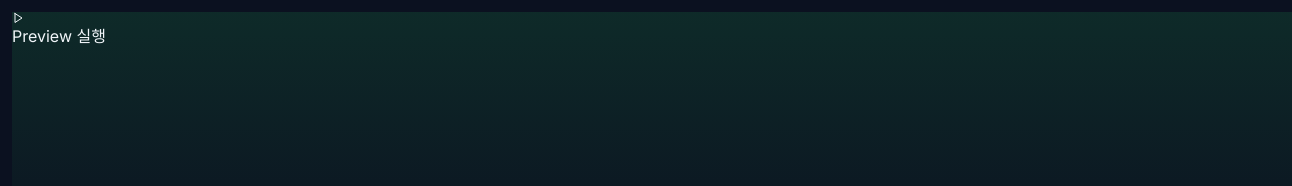
Test: PreviewRunCard › (#4) no_scaffold 응답 → 안내만 표시(가짜 진행 X)
Click the button with test id "mission-preview-run-cta-mission_w". click: coordinates (59, 30)
box: [12,12,106,48]
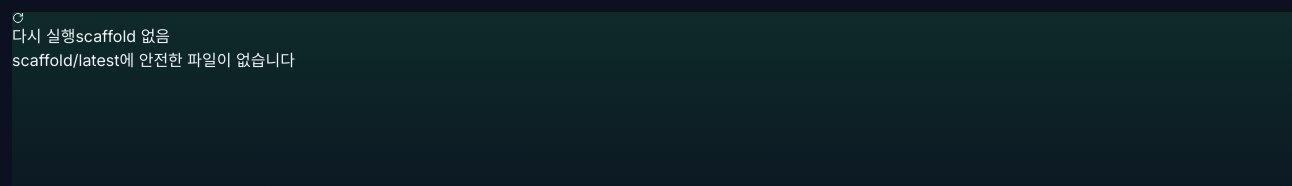
Now the text with test id "mission-preview-run-error-mission_w" shows "scaffold", box [12,50,295,70]
